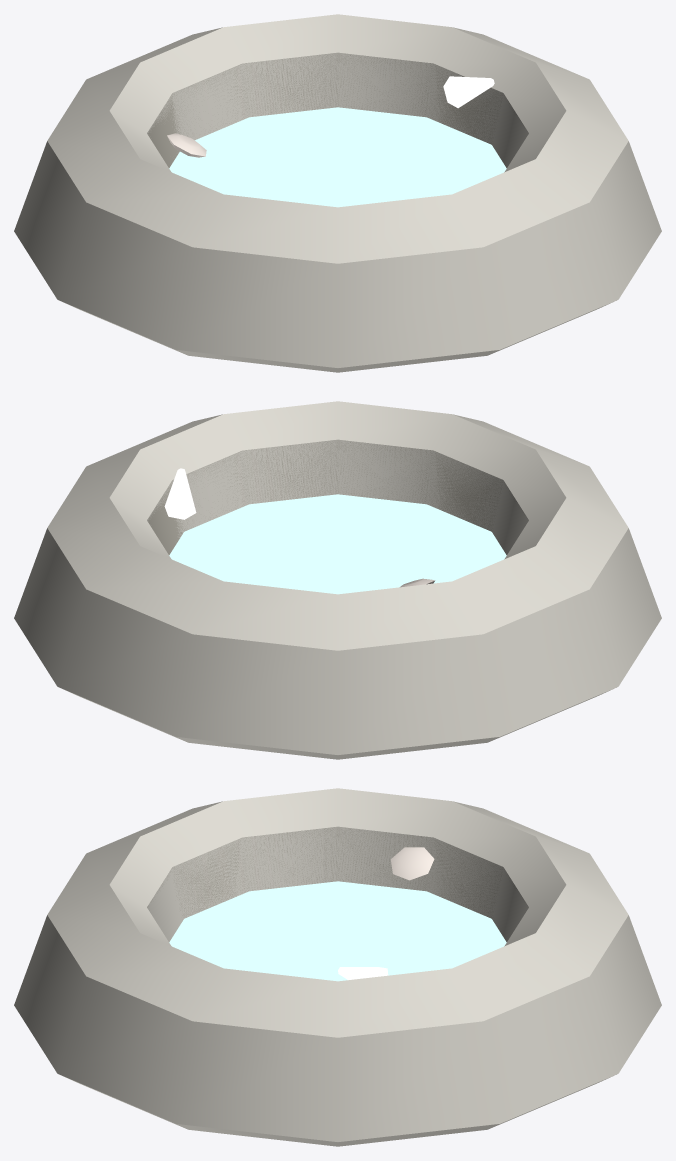
The model's file is saltglass_tidepool.glb.
3 renders of one model, top to bottom at view 1: azimuth 30°, elevation 25°; view 2: azimuth 150°, elevation 25°; view 3: azimuth 270°, elevation 25°, orthographic.
Parts seen in each view (by area): view 1: saltglass_tidepool; view 2: saltglass_tidepool; view 3: saltglass_tidepool.
Boxes of the visible parts, x1,y1,x2,y2 form: saltglass_tidepool: (14, 14, 661, 372); saltglass_tidepool: (14, 401, 661, 759); saltglass_tidepool: (14, 788, 661, 1146).
Size of the model in its own units: 1.56 by 0.36 by 1.56.
